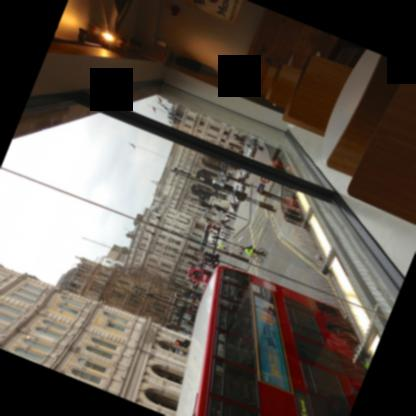backpack: (245, 244, 253, 248)
